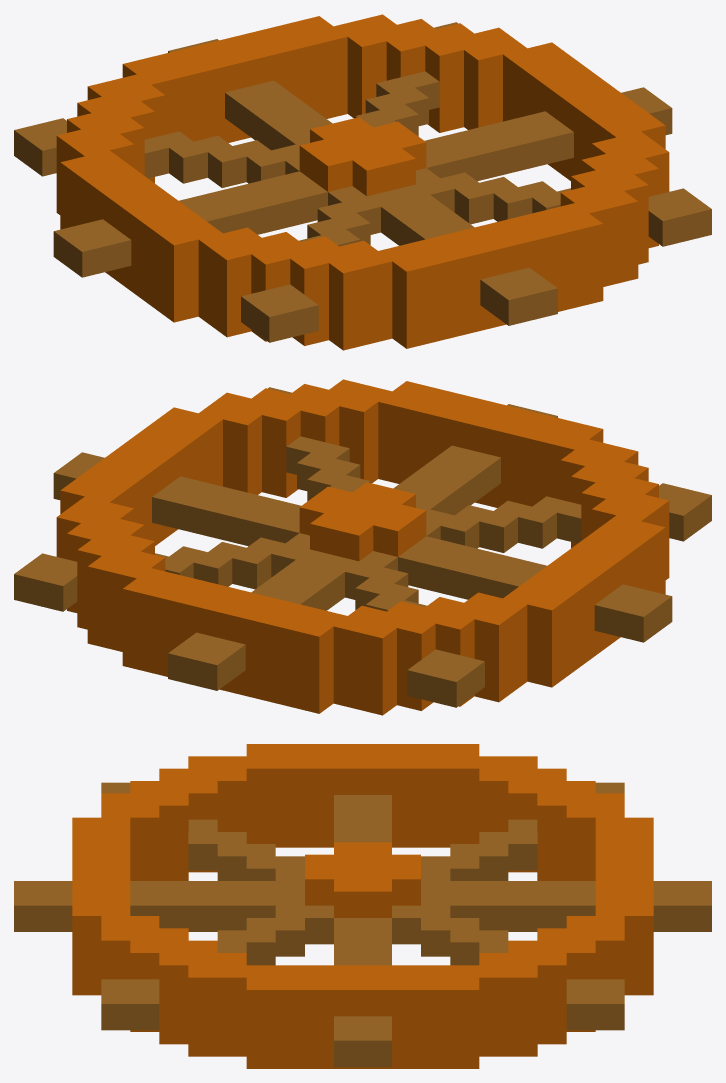
The model's file is wheel-0.obj.
The picture shows the model from 3 angles, top to bottom: view 1: azimuth 30°, elevation 25°; view 2: azimuth 150°, elevation 25°; view 3: azimuth 270°, elevation 25°; orthographic projection. The views are drawn at different scales.
Size of the model in its own units: 2.4 by 0.3 by 2.4.
Materials: 1 (1 with a texture image).
